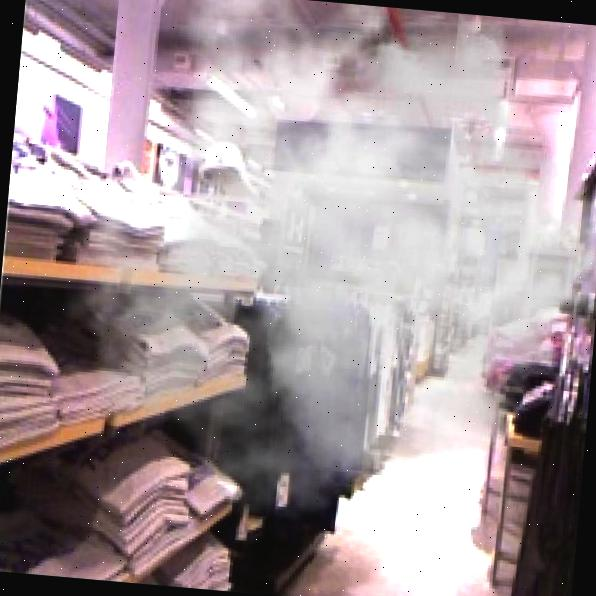smoke: (43, 0, 596, 546)
